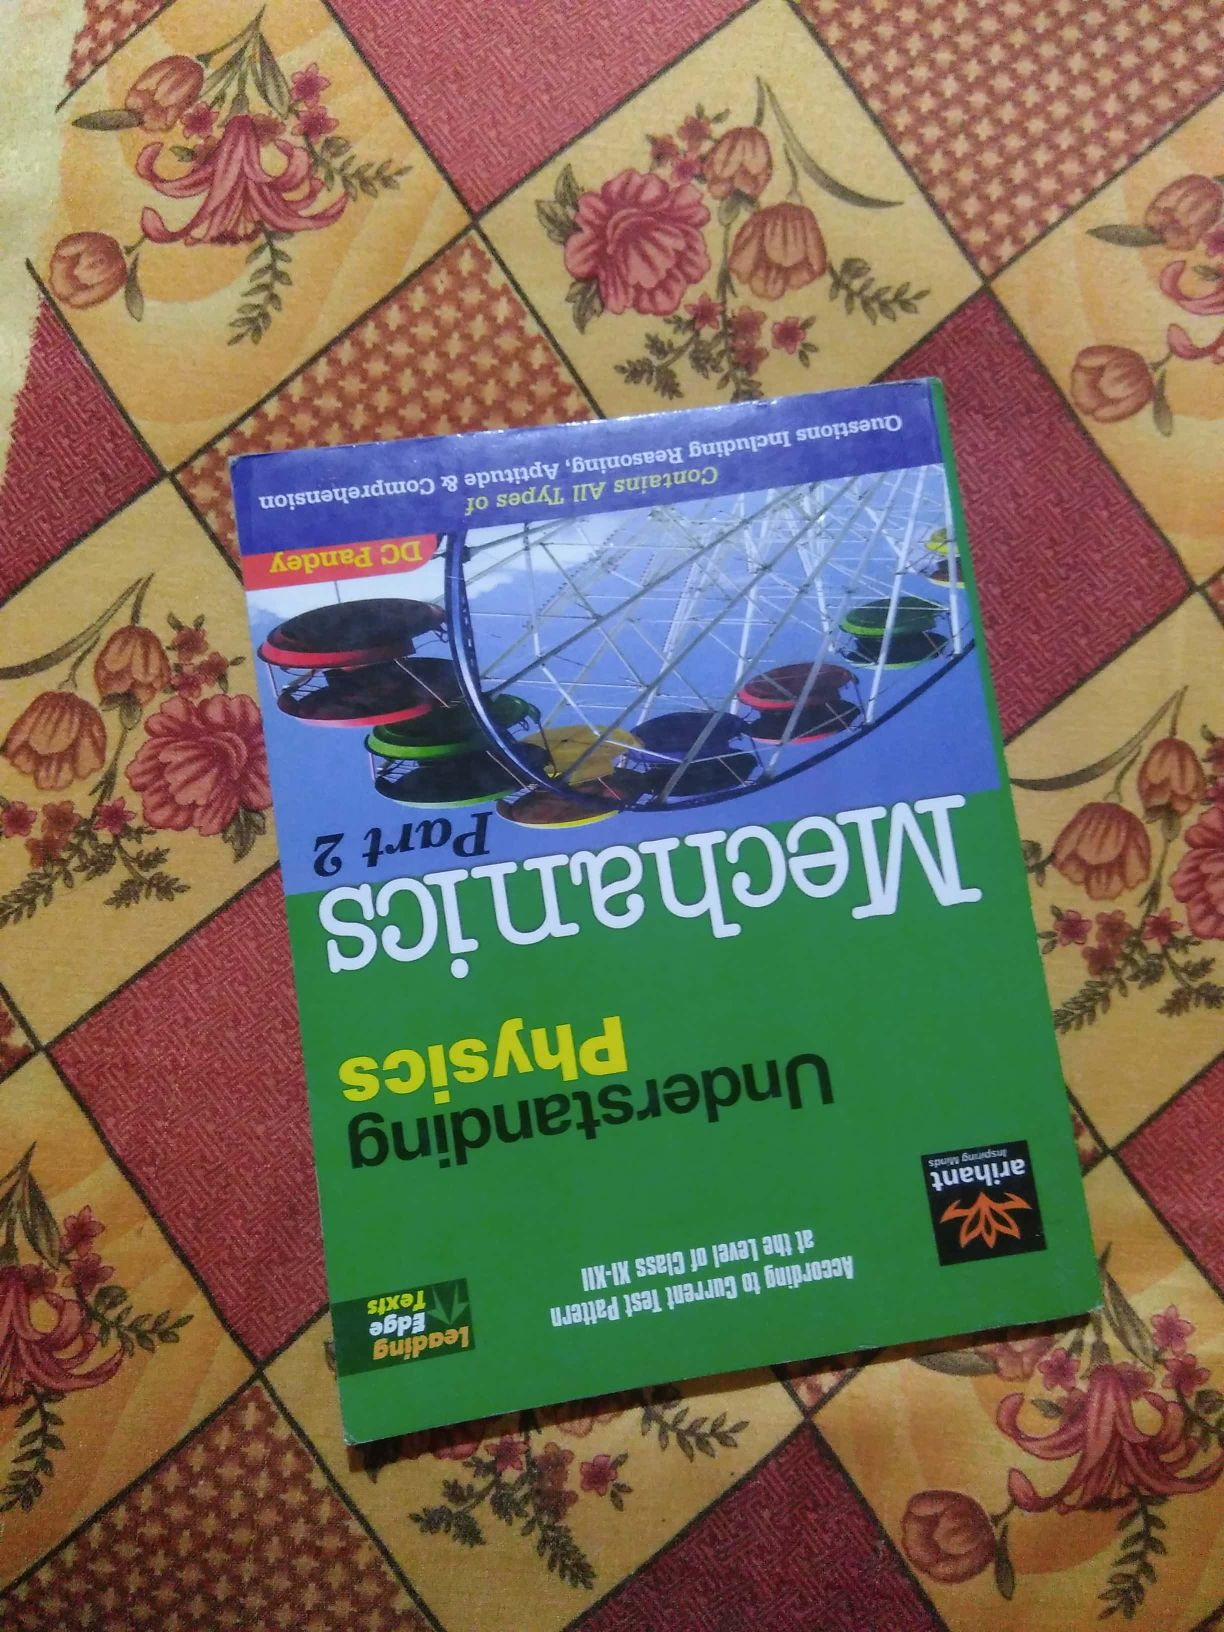mechanics: (203, 371, 1142, 1456)
